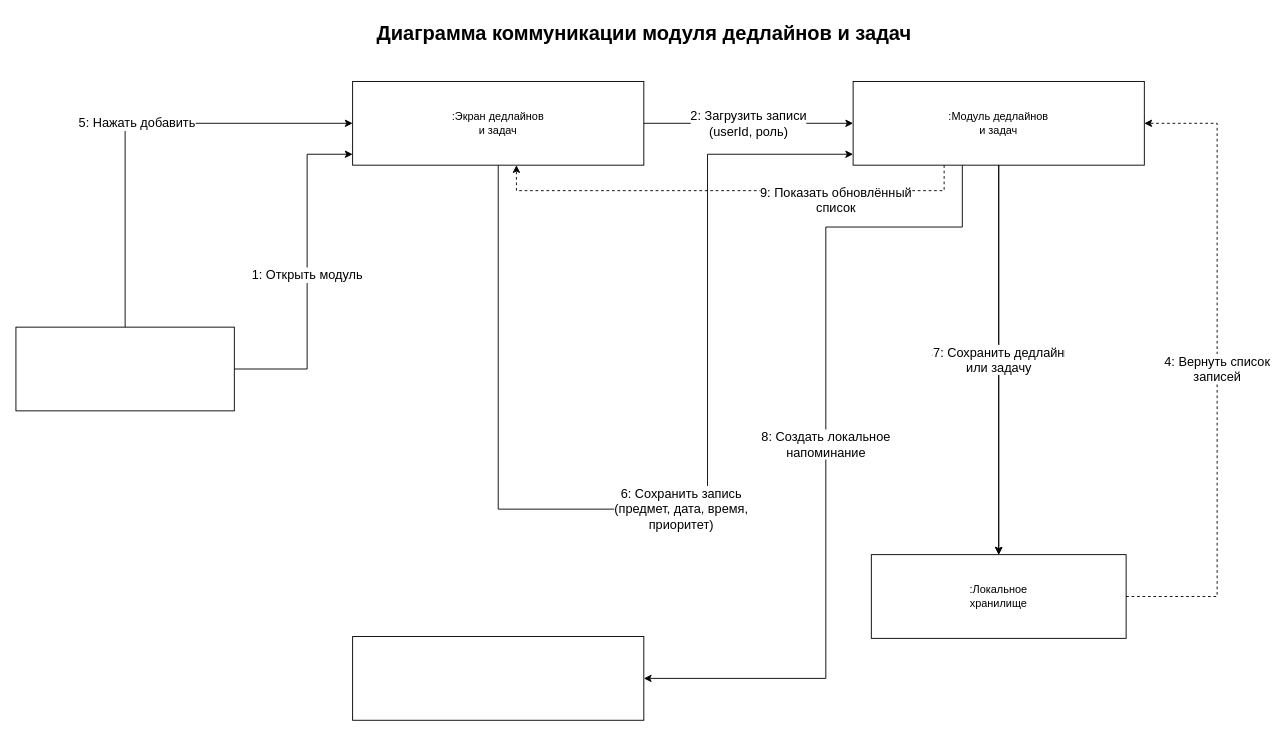
The diagram is 1286 pixels wide and 736 high, and some of its shapes have lost their labels. Here are the shapes that lost their labels. From the top down, the centre of each, then its label:
(x=124, y=368): :Пользователь
(x=498, y=678): :Локальные напоминания
